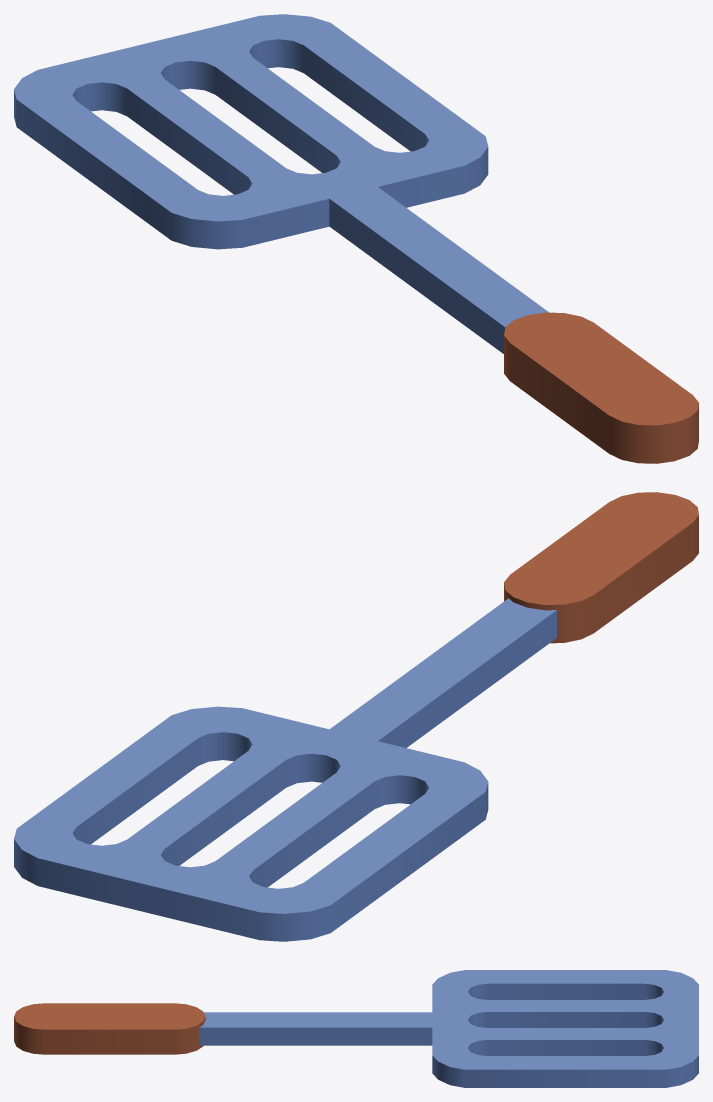
The model's file is Spatula.fbx.
The picture shows the model from 3 angles, top to bottom: view 1: azimuth 30°, elevation 25°; view 2: azimuth 150°, elevation 25°; view 3: azimuth 270°, elevation 25°; orthographic projection. The views are drawn at different scales.
Visible parts, largest first — view 1: Cylinder.052; view 2: Cylinder.052; view 3: Cylinder.052.
Part boxes in pixels (box(x1,y1,x2,y2)): Cylinder.052: box(14, 14, 698, 463); Cylinder.052: box(14, 492, 698, 941); Cylinder.052: box(14, 970, 698, 1087).
Size of the model in its own units: 0.2782 by 0.0325 by 0.8076.
